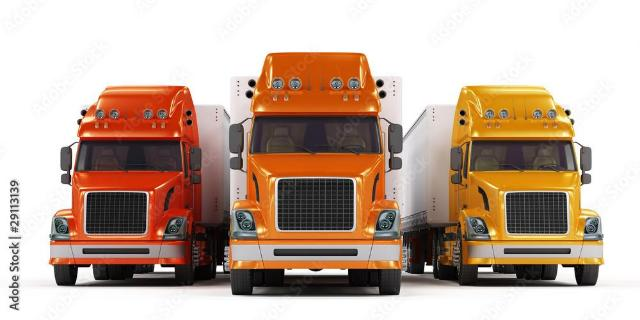truck: (211, 44, 431, 301), (49, 66, 219, 289), (421, 83, 597, 286)
